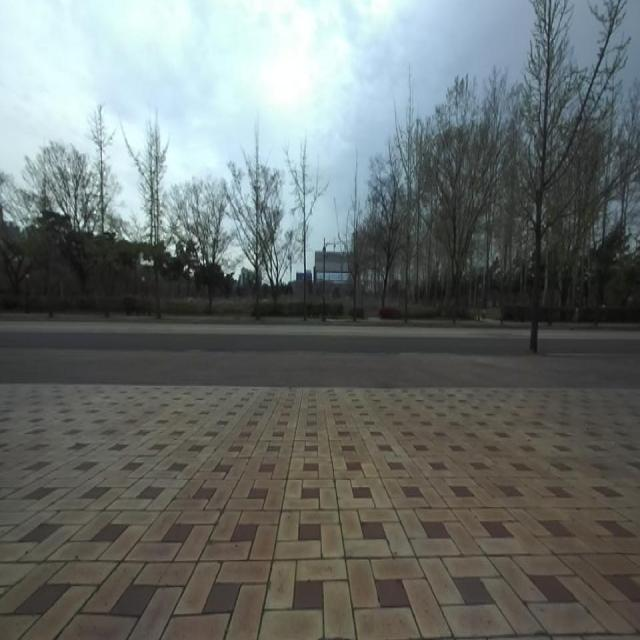sidewalk: (0, 347, 640, 388)
